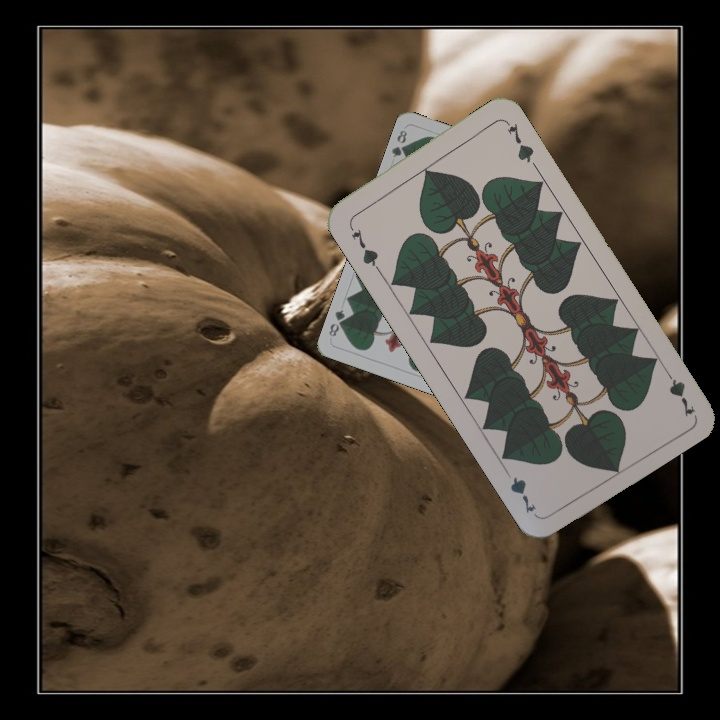G7: (659, 363, 698, 419), (345, 219, 382, 273)
G8: (388, 126, 412, 160)
